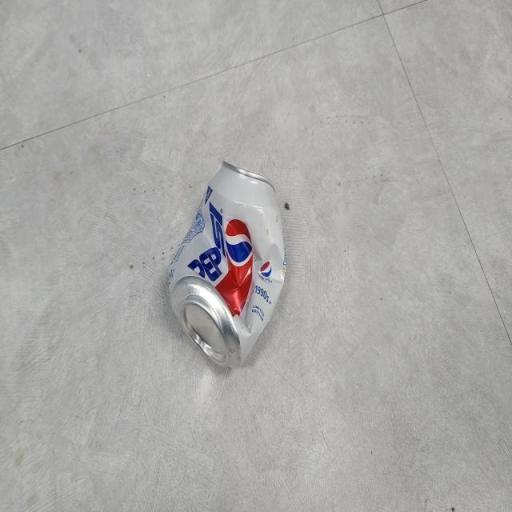metal: (138, 142, 316, 390)
